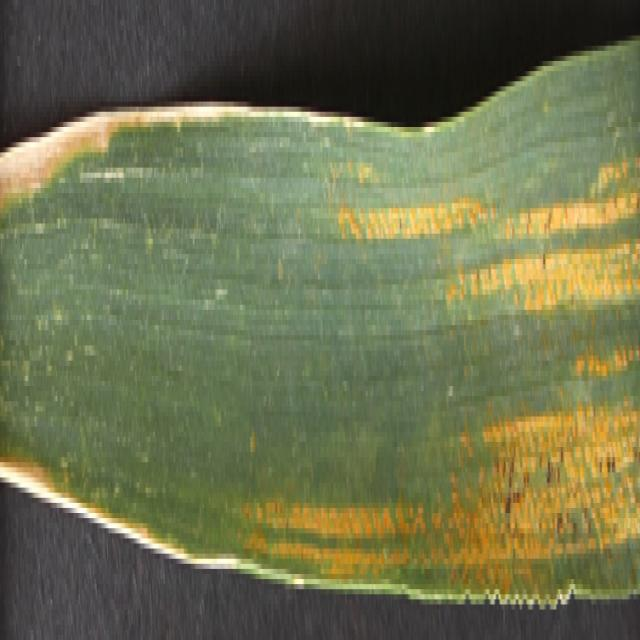leaf rust: (247, 163, 640, 594)
